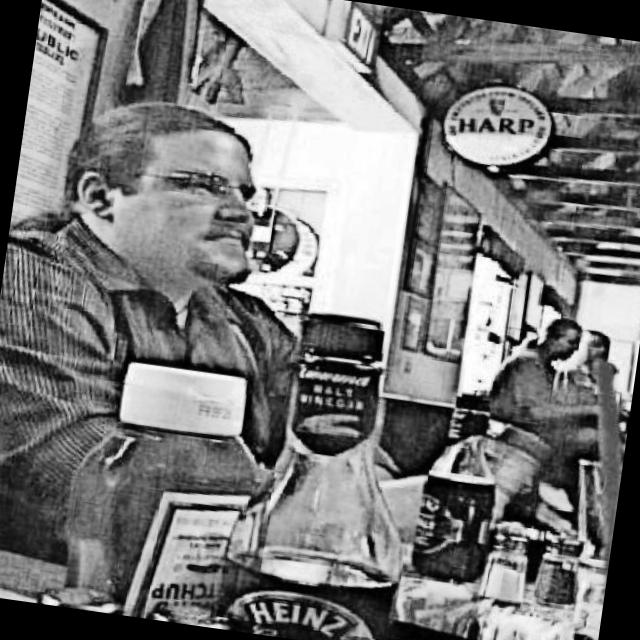Person: (0, 78, 329, 573)
